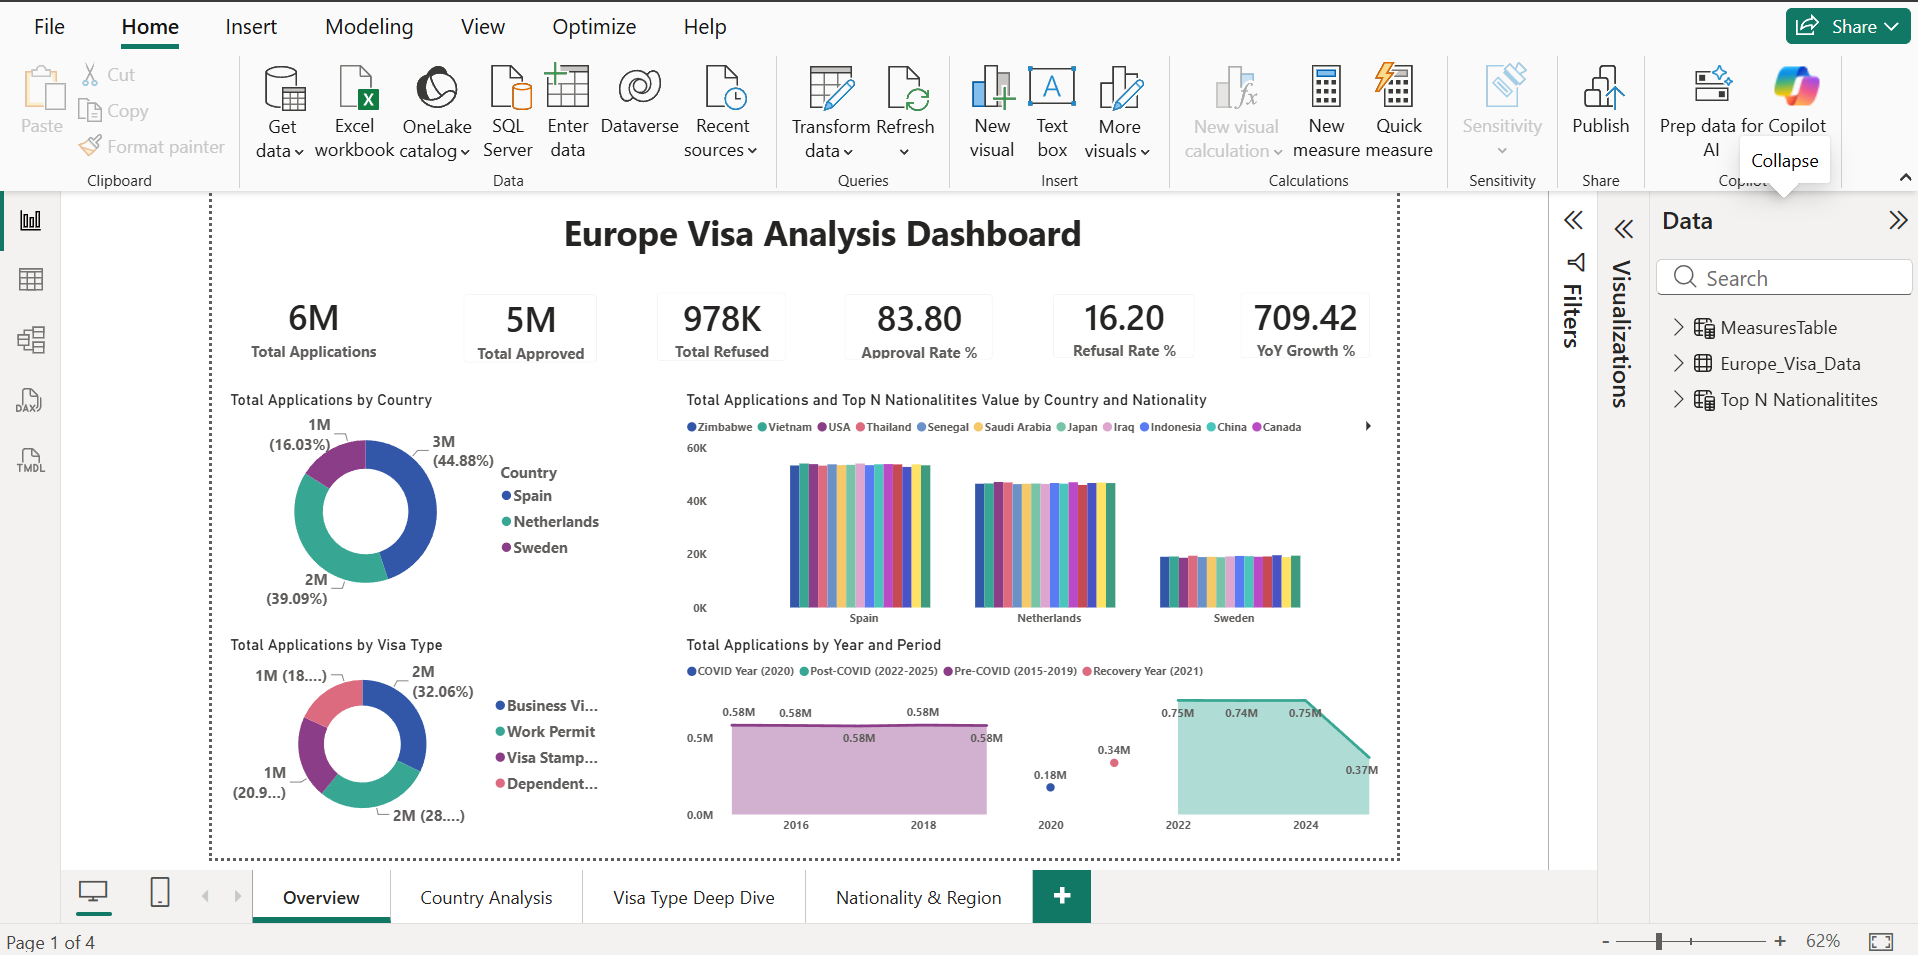

What the dashboard file says about the page in this screenshot:
{"tool":"powerbi","page":{"name":"Overview","canvas":[1280,720],"ordinal":0},"visuals":[{"type":"cardVisual","fields":{"Data":["MeasuresTable.Total Applications"]},"box":[9.9,94,200.8,106.9],"z":0,"group":"g1"},{"type":"cardVisual","fields":{"Data":["MeasuresTable.Refusal Rate %"]},"box":[890.9,93.4,187.8,103.6],"z":2000,"group":"g1"},{"type":"cardVisual","fields":{"Data":["MeasuresTable.Approval Rate %"]},"box":[665.9,93.4,194.3,105.2],"z":3000,"group":"g1"},{"type":"cardVisual","fields":{"Data":["MeasuresTable.Total Approved"]},"box":[254.4,94,178.1,108.5],"z":4000,"group":"g1"},{"type":"cardVisual","fields":{"Data":["MeasuresTable.Total Refused"]},"box":[463.5,91.8,173.3,108.5],"z":5000,"group":"g1"},{"type":"donutChart","fields":{"Y":["MeasuresTable.Total Applications"],"Category":["Europe_Visa_Data.Country"]},"box":[14.6,215.4,417.8,241.3],"z":6000},{"type":"donutChart","fields":{"Category":["Europe_Visa_Data.Visa Type"],"Y":["MeasuresTable.Total Applications"]},"box":[14.6,479.3,417.8,215.4],"z":7000},{"type":"clusteredColumnChart","fields":{"Category":["Europe_Visa_Data.Country"],"Y":["MeasuresTable.Total Applications"],"Series":["Europe_Visa_Data.Nationality"]},"box":[506.8,215.4,761,263.9],"z":8000},{"type":"areaChart","fields":{"Category":["Europe_Visa_Data.Year"],"Y":["MeasuresTable.Total Applications"],"Series":["Europe_Visa_Data.Period"]},"box":[506.8,479.3,761,223.5],"z":9000},{"type":"cardVisual","fields":{"Data":["MeasuresTable.YoY Growth %"]},"box":[1093.3,92.4,174.9,105.2],"z":10500,"group":"g1"},{"type":"group","id":"g1","title":"Group 1","box":[9.9,91.8,1258.3,110.7],"z":11001}]}

Visuals, with their boxes on the page's 1280x720 design canvas (x1, y1, x2, y2). These are canvas units, not pixel positions in the 1918x955 screenshot, which may show the page scaled, cropped or inside an application window:
cardVisual - MeasuresTable.Total Applications: {"left": 10, "top": 94, "right": 211, "bottom": 201}
cardVisual - MeasuresTable.Refusal Rate %: {"left": 891, "top": 93, "right": 1079, "bottom": 197}
cardVisual - MeasuresTable.Approval Rate %: {"left": 666, "top": 93, "right": 860, "bottom": 199}
cardVisual - MeasuresTable.Total Approved: {"left": 254, "top": 94, "right": 432, "bottom": 202}
cardVisual - MeasuresTable.Total Refused: {"left": 464, "top": 92, "right": 637, "bottom": 200}
donutChart - MeasuresTable.Total Applications x Europe_Visa_Data.Country: {"left": 15, "top": 215, "right": 432, "bottom": 457}
donutChart - Europe_Visa_Data.Visa Type x MeasuresTable.Total Applications: {"left": 15, "top": 479, "right": 432, "bottom": 695}
clusteredColumnChart - Europe_Visa_Data.Country x MeasuresTable.Total Applications: {"left": 507, "top": 215, "right": 1268, "bottom": 479}
areaChart - Europe_Visa_Data.Year x MeasuresTable.Total Applications: {"left": 507, "top": 479, "right": 1268, "bottom": 703}
cardVisual - MeasuresTable.YoY Growth %: {"left": 1093, "top": 92, "right": 1268, "bottom": 198}
"Group 1" group: {"left": 10, "top": 92, "right": 1268, "bottom": 202}
